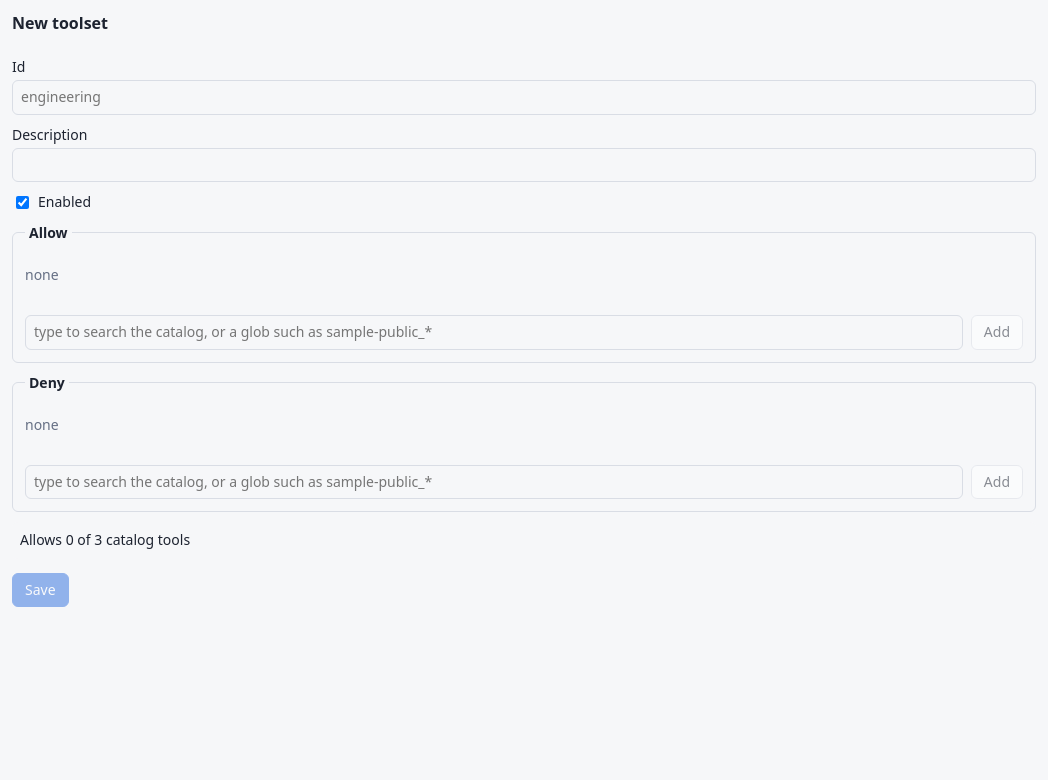
Scenario: ToolsetForm › shows a live 'matches N catalog tools' hint for a glob and per entry
Type "sample-public_*" into the field named "Allow pattern" at (494, 332), box [25,315,963,350]
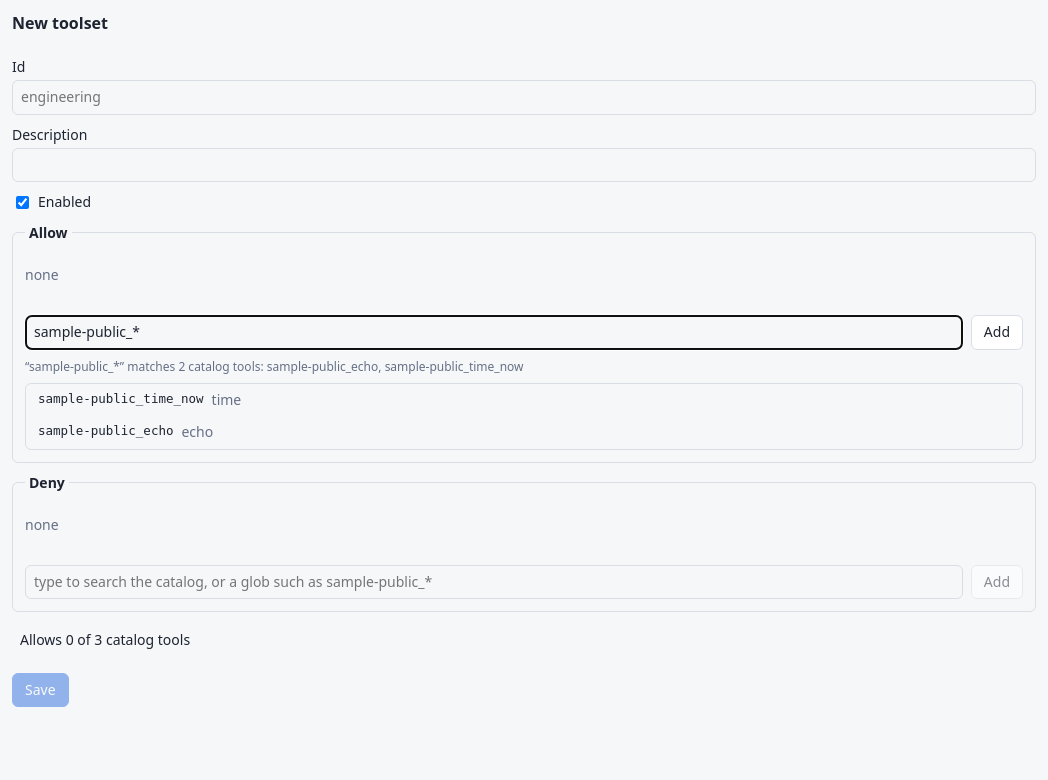
Expected: the text with test id "draft-hint" shows "matches 2 catalog tools", [25,358,524,375]
Press Enter
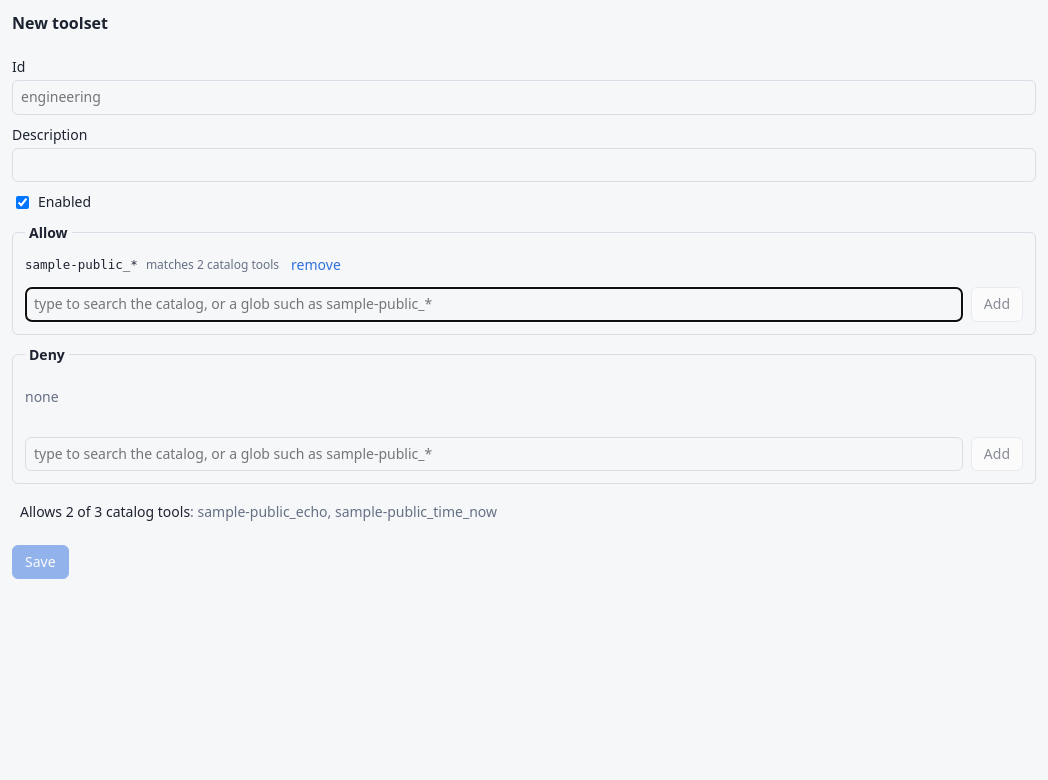
Expected: the text with test id "matches-sample-public_*" reads "matches 2 catalog tools", [146,256,279,274]
Expected: the element with test id "effective" shows "Allows 2 of 3 catalog tools", [12,494,1036,531]
